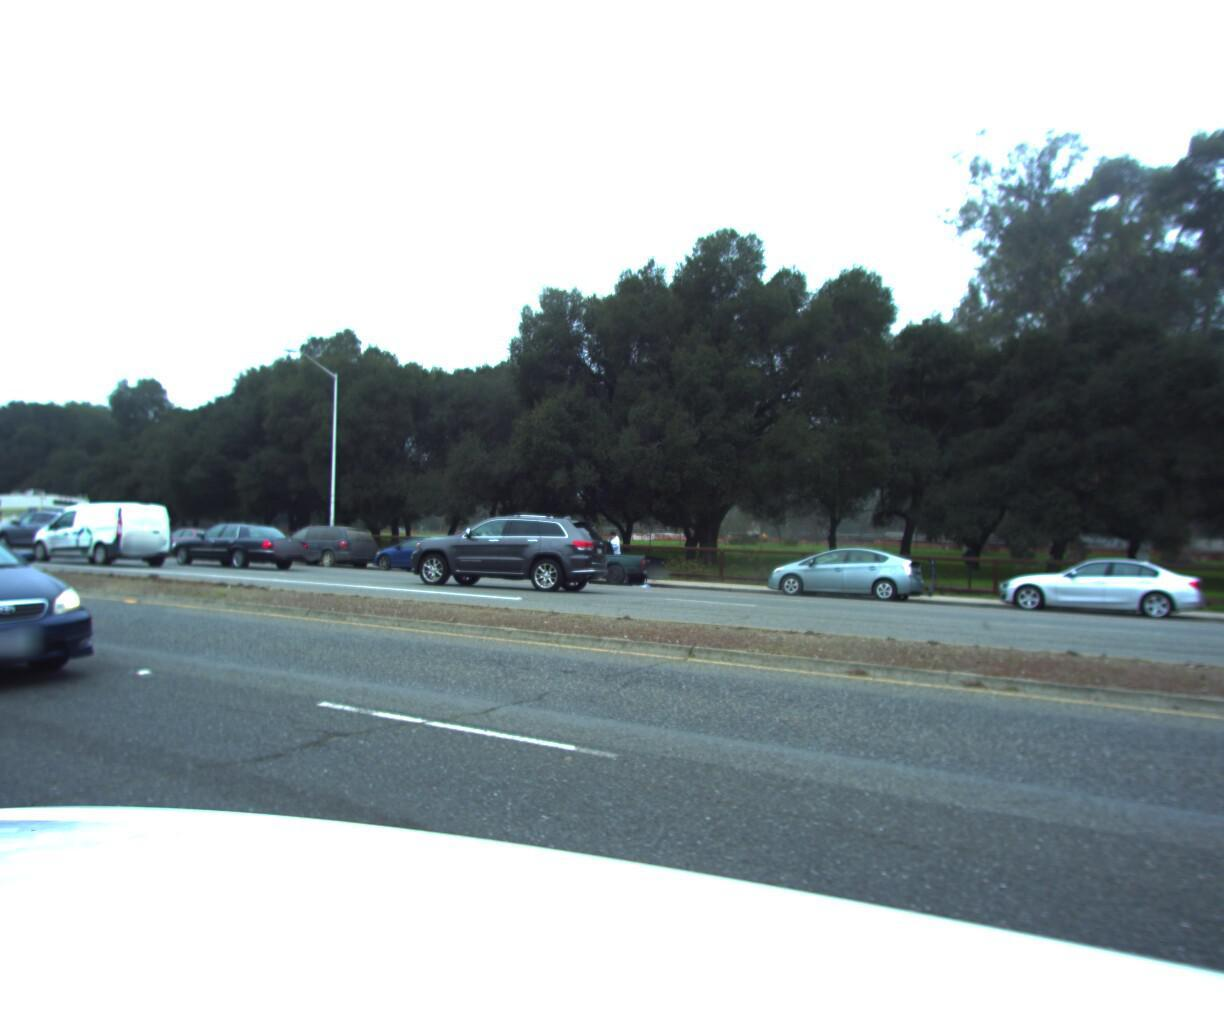bus: (0, 484, 12, 544)
car: (0, 503, 133, 727), (396, 508, 624, 603), (986, 547, 1209, 625), (14, 497, 181, 570), (753, 537, 932, 605), (509, 529, 671, 590), (162, 515, 323, 573), (258, 516, 383, 571), (362, 529, 484, 575), (0, 505, 104, 554), (139, 520, 241, 558)
other_vehicle: (0, 481, 95, 553)
